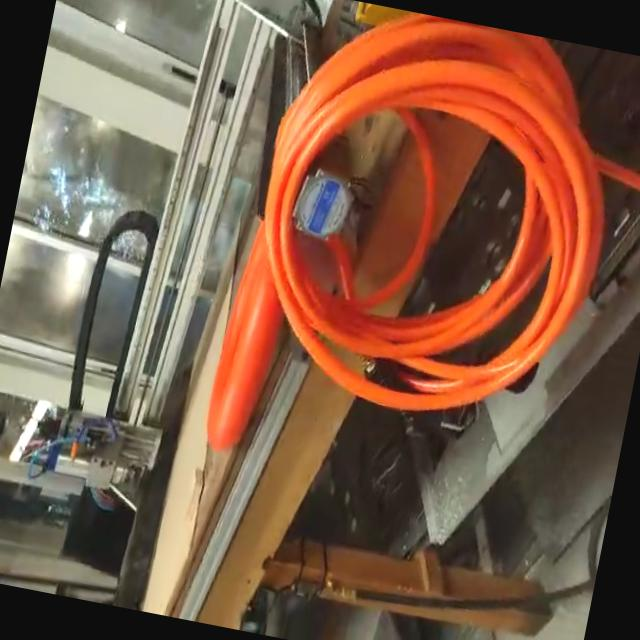note: (200, 218, 300, 456)
